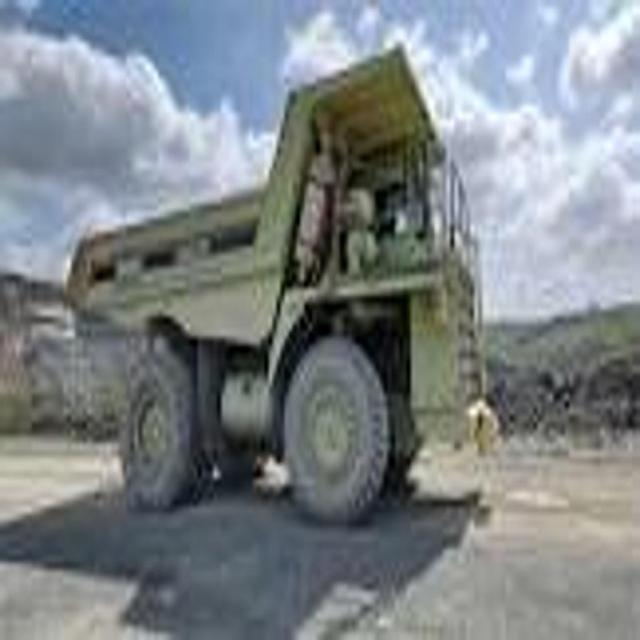dump_truck: (62, 32, 502, 514)
